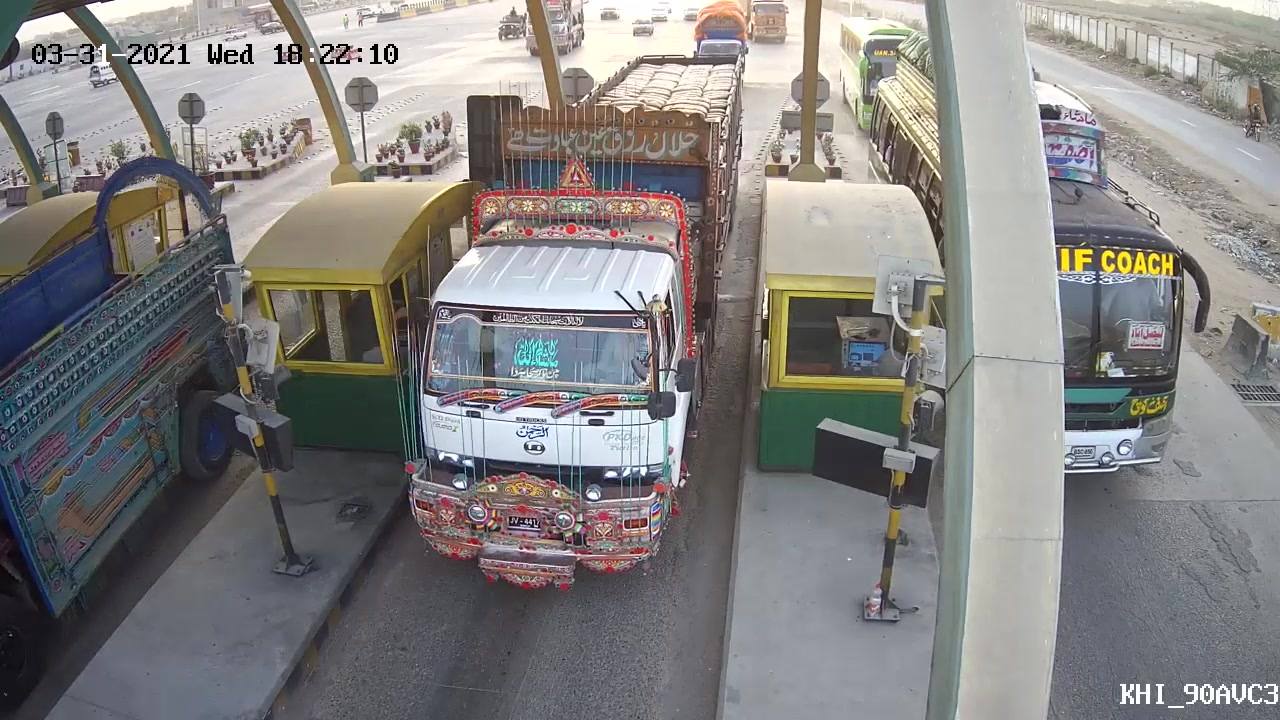F5: (383, 63, 750, 594)
